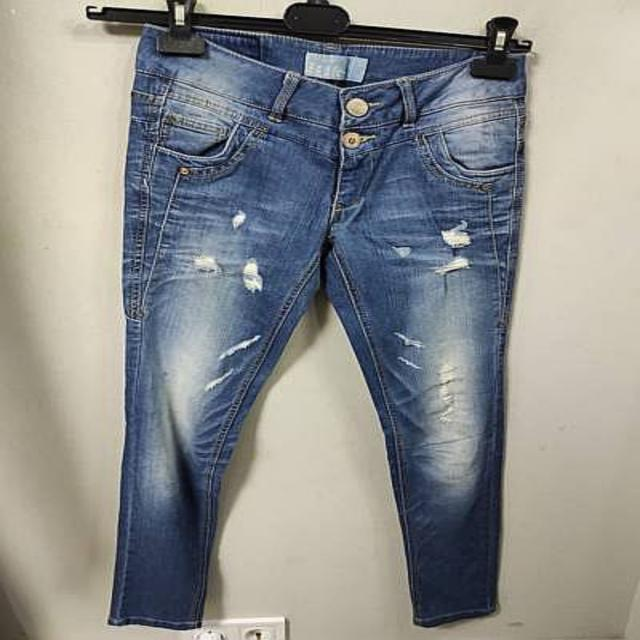TROUSER: (96, 21, 540, 637)
